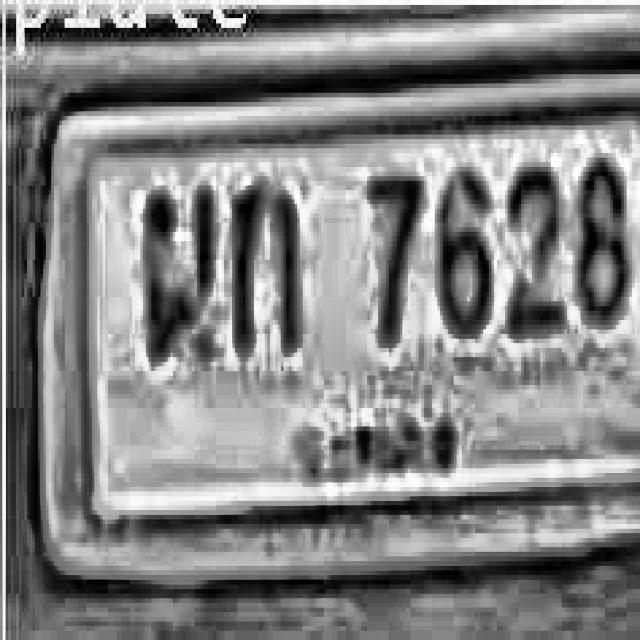license-plate: (24, 65, 640, 580)
